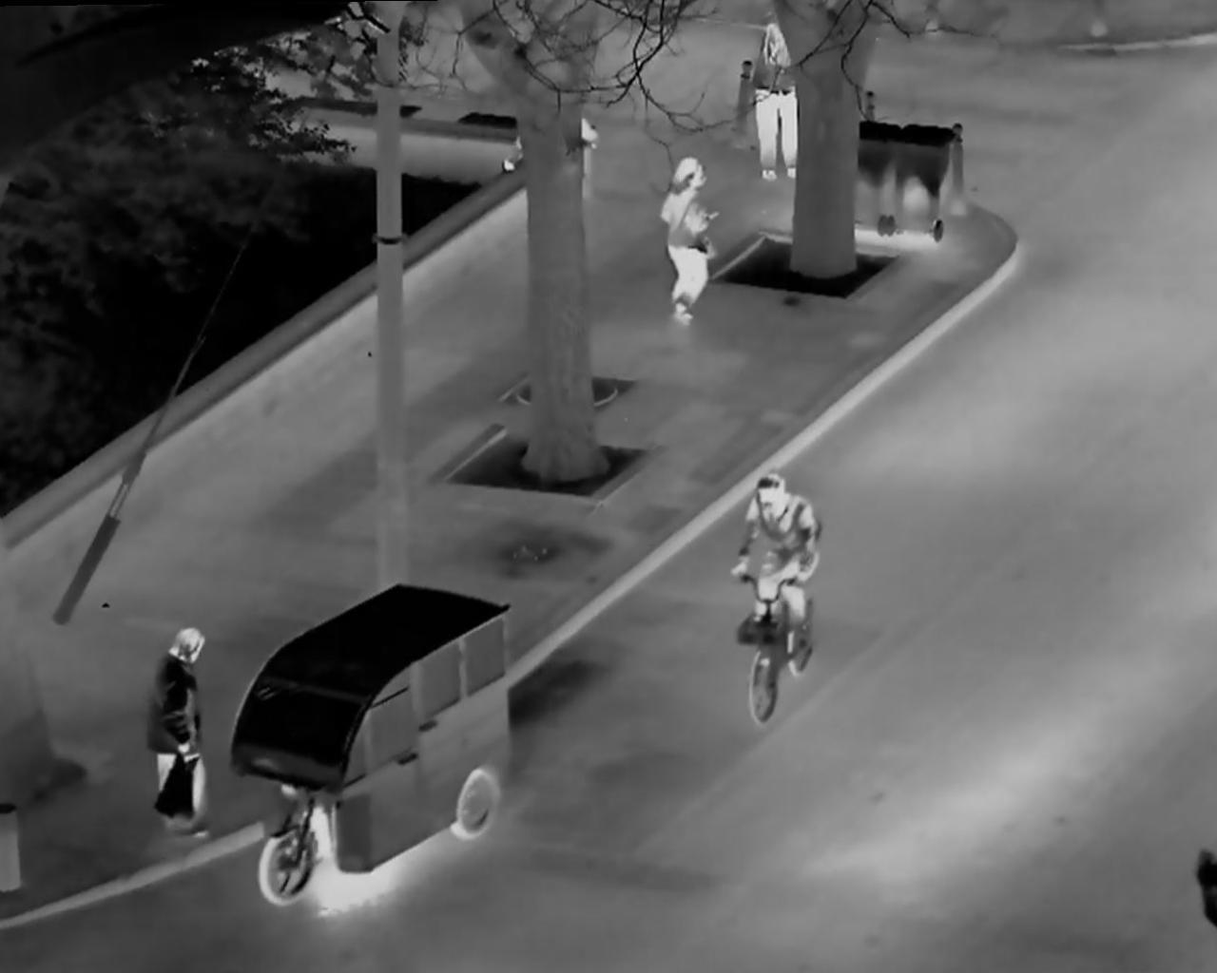person: (722, 453, 831, 720), (143, 609, 216, 854), (647, 143, 733, 344), (744, 17, 807, 181)
